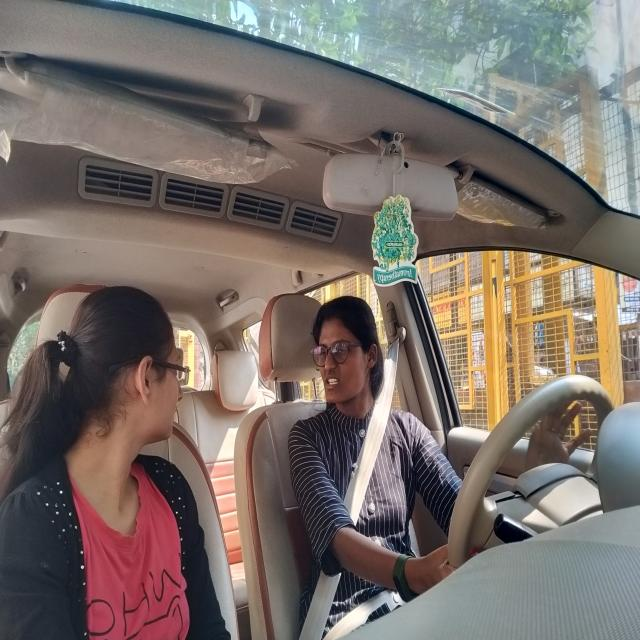LeftRight: (309, 292, 378, 415)
person: (79, 286, 189, 443)
talking: (322, 371, 343, 394)
